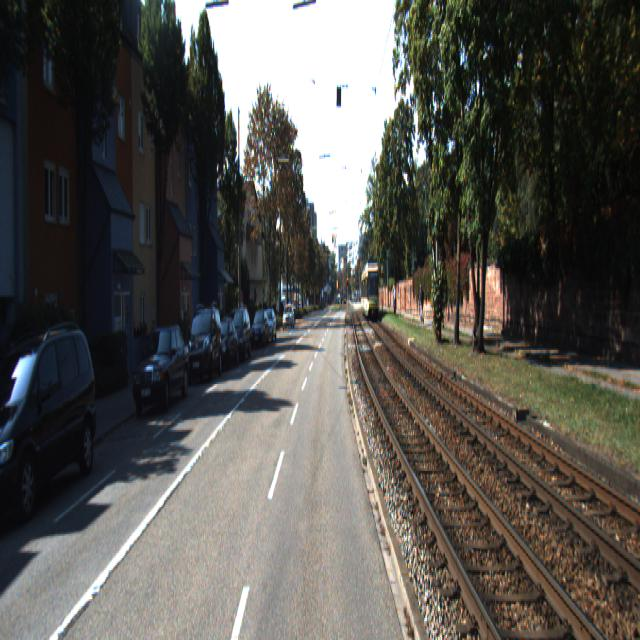Car: (0, 319, 103, 539), (131, 321, 191, 418), (185, 301, 224, 387), (224, 306, 252, 365), (210, 315, 238, 373), (361, 262, 381, 322), (250, 310, 270, 350)
